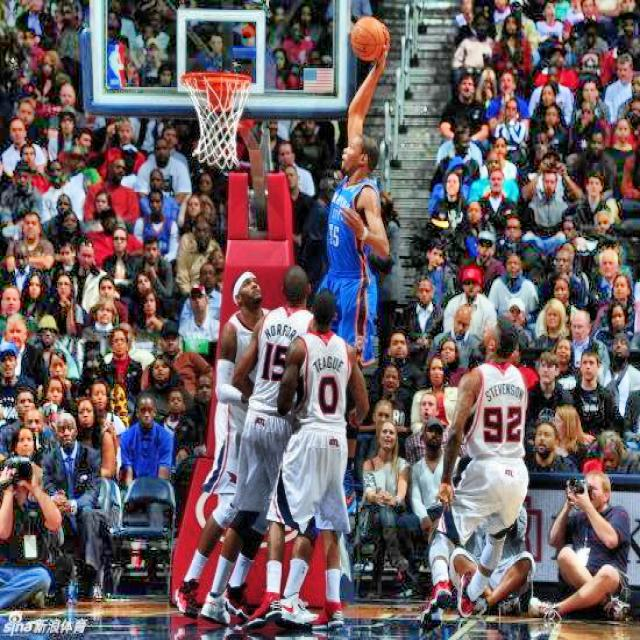rim: (182, 71, 254, 172)
